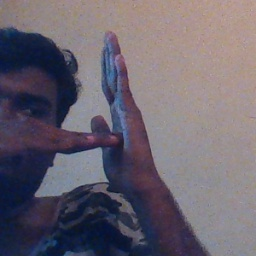Z: (33, 30, 156, 211)
